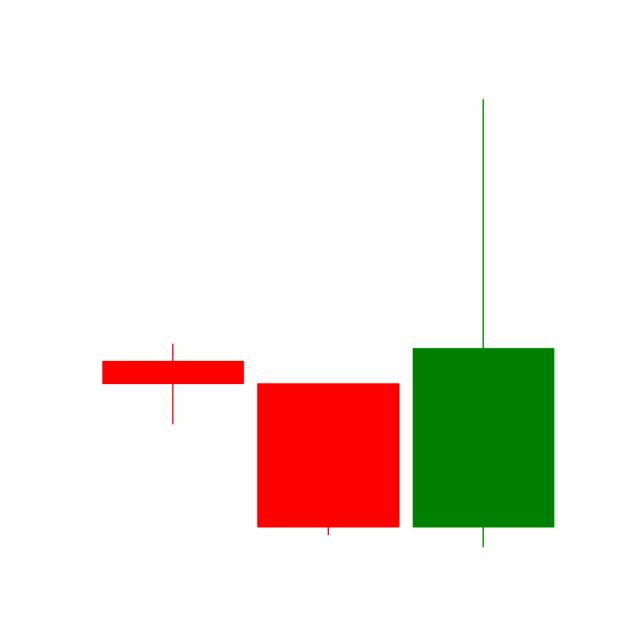Marubozu: (249, 381, 406, 536)
